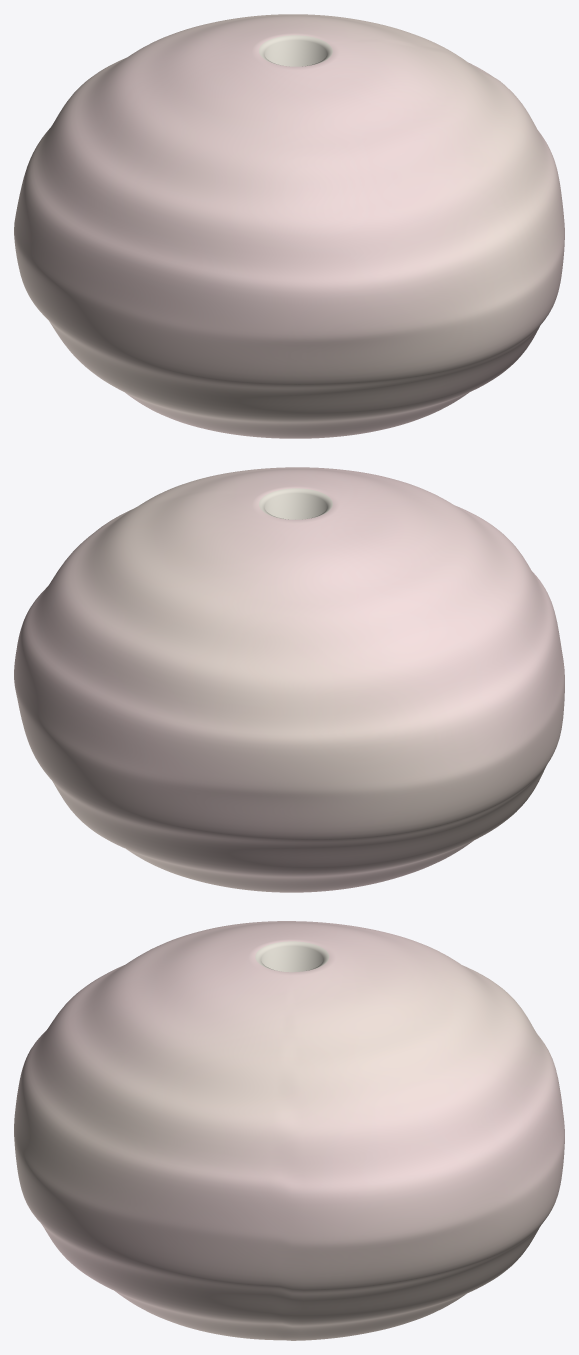
The model's file is pearl-ref-06.glb.
3 views of the same model, one above another, from view 1: azimuth 30°, elevation 25°; view 2: azimuth 150°, elevation 25°; view 3: azimuth 270°, elevation 25° (orthographic).
Visible parts, largest first — view 1: pearl-ref-06; view 2: pearl-ref-06; view 3: pearl-ref-06.
Part boxes in pixels (left/top/right/bottom): pearl-ref-06: left=14, top=14, right=564, bottom=438; pearl-ref-06: left=14, top=467, right=564, bottom=892; pearl-ref-06: left=14, top=921, right=564, bottom=1340.
Size of the model in its own units: 0.00704 by 0.00496 by 0.0071.
Materials: 2 (1 with a texture image).
